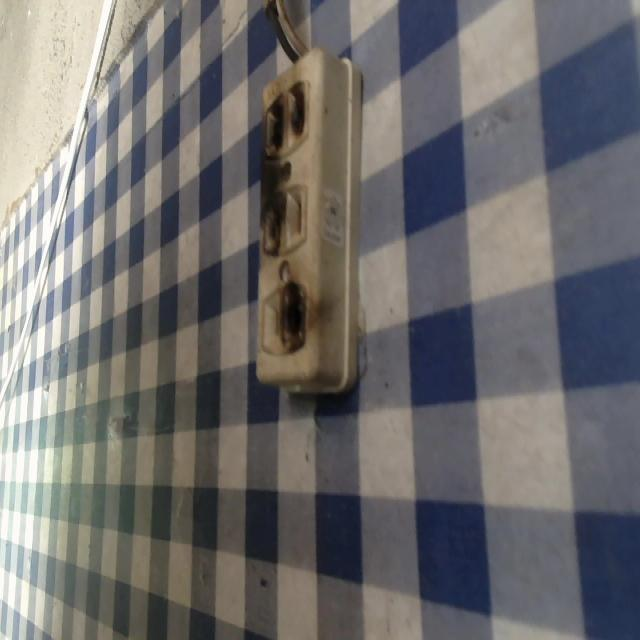-: (260, 84, 312, 156), (271, 277, 312, 351), (257, 184, 287, 259)
